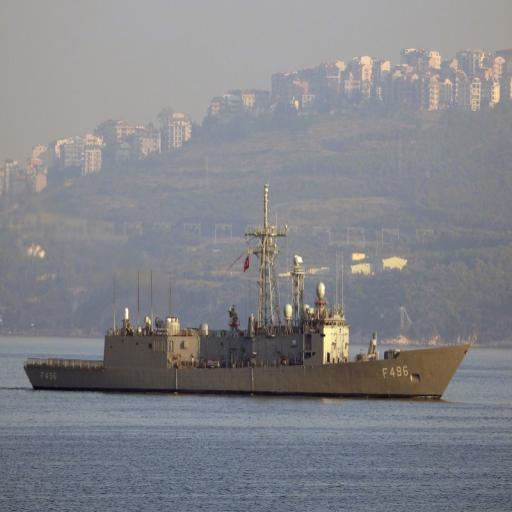Fragata: (25, 174, 474, 404)
